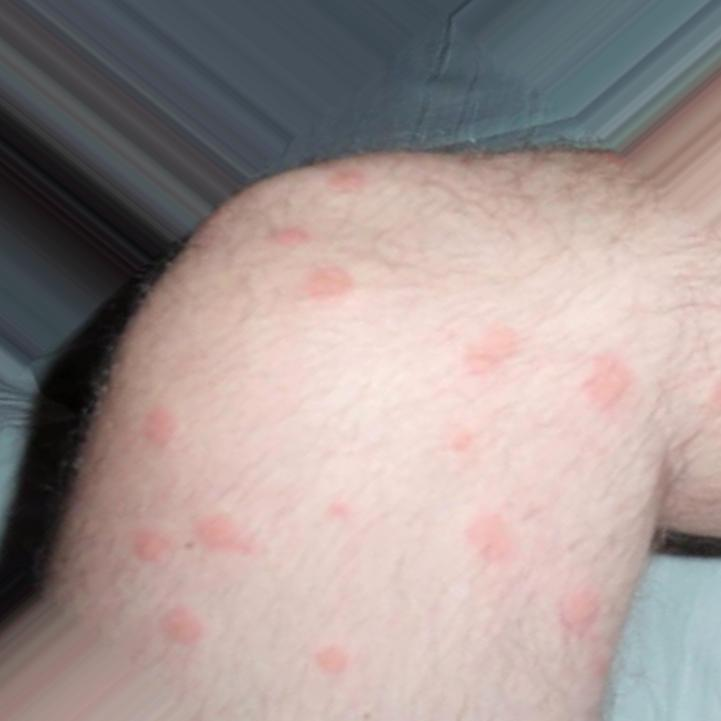Fleas: (571, 346, 640, 415), (456, 318, 526, 381), (296, 259, 357, 309), (560, 589, 615, 643), (303, 635, 357, 689), (463, 511, 513, 569), (153, 601, 207, 654), (194, 515, 257, 556), (319, 158, 372, 204), (135, 403, 181, 455), (123, 522, 172, 565), (441, 425, 478, 467), (266, 225, 321, 250), (322, 494, 354, 523)
